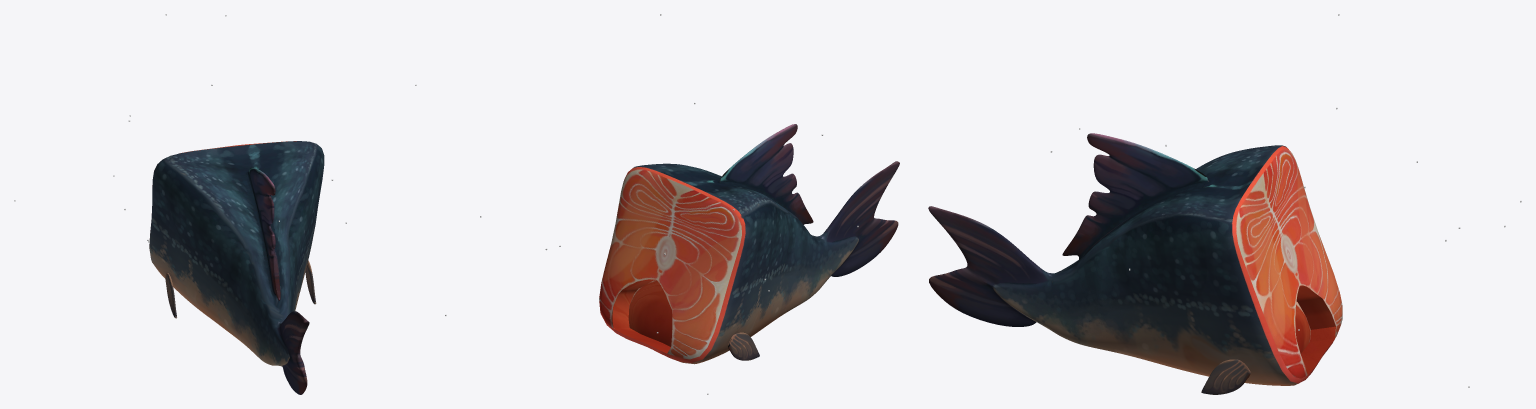
Rendered from salmon-collider-mesh.fbx.
3 views of the same model, side by side, from view 1: azimuth 30°, elevation 25°; view 2: azimuth 150°, elevation 25°; view 3: azimuth 270°, elevation 25° (orthographic). The views are drawn at different scales.
Visible parts, largest first — view 1: Collider.Mesh; view 2: Collider.Mesh; view 3: Collider.Mesh.
Boxes of the visible parts, left/top/right/bottom form: Collider.Mesh: left=14, top=14, right=416, bottom=394; Collider.Mesh: left=445, top=14, right=899, bottom=394; Collider.Mesh: left=928, top=14, right=1521, bottom=394.
Bounding box in the file's own units: 147 × 136 × 223.
